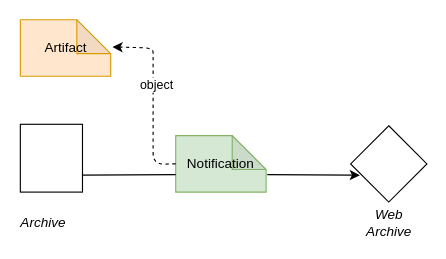
Image size: 446x259. Some labels were removed from this diagram. The box of each missing label's shape, as (x1, y1, x2, y2) in pixels:
Data node: (19, 123, 82, 192)
Service Node: (350, 125, 427, 202)
